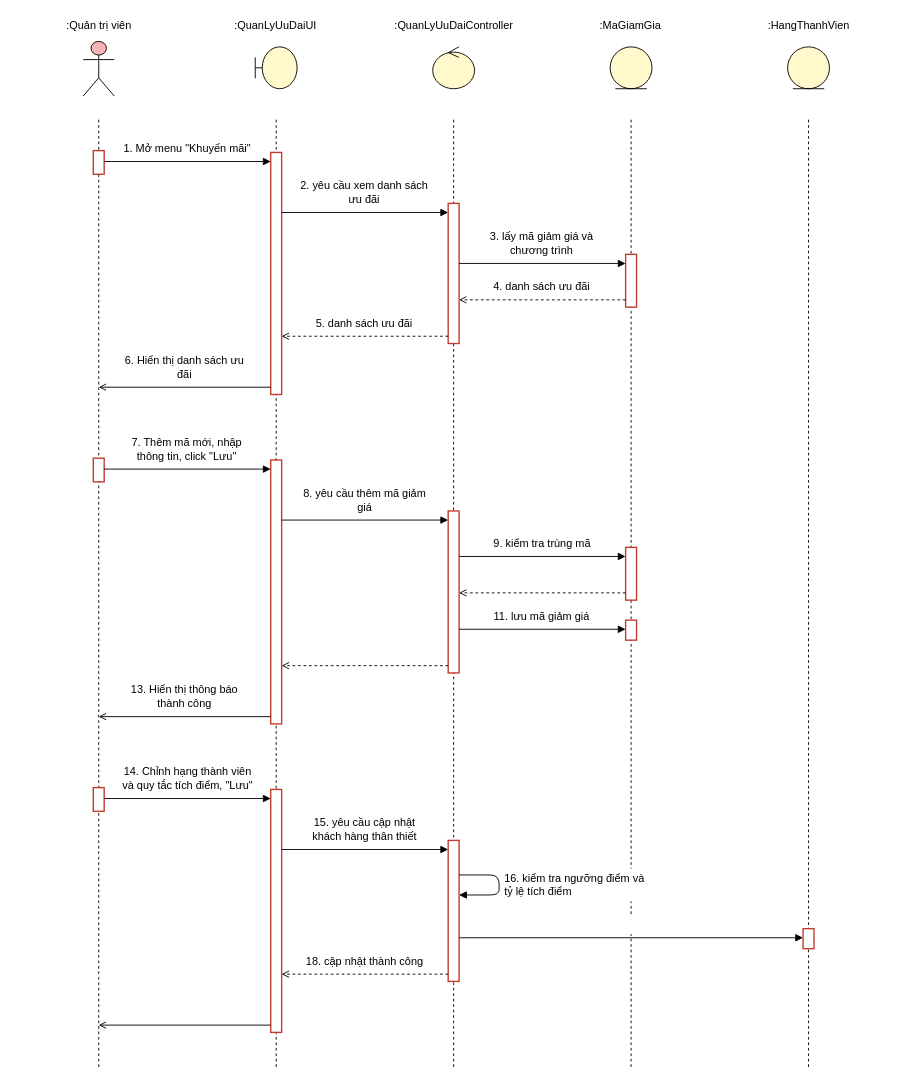
The diagram is 907 pixels wide and 1084 high, and some of its shapes have lost their labels. The centre of each missing label's shape, as x and y in pixels:
"10. hợp lệ" goes at point 541,580.
"12. thêm mã thành công" goes at point 364,652.
"17. lưu cấu hình" goes at point 631,924.
"19. Thông báo áp dụng cho đơn mới" goes at point 184,1004.
